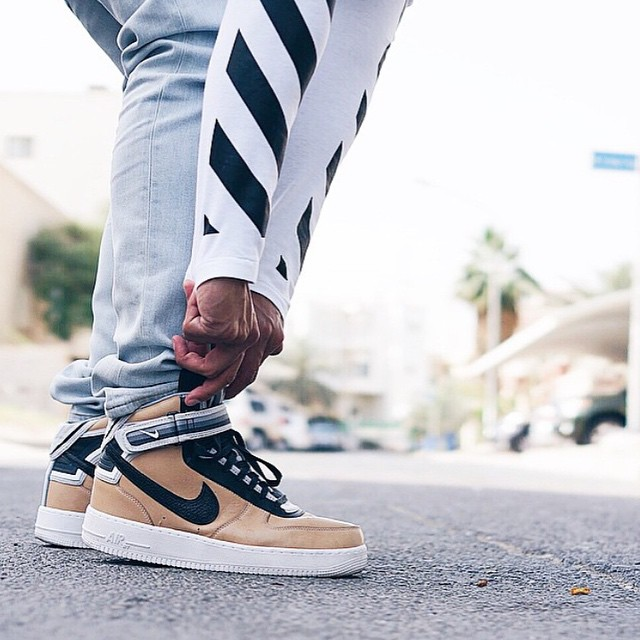sneaker: (71, 389, 380, 591), (21, 385, 131, 562)
